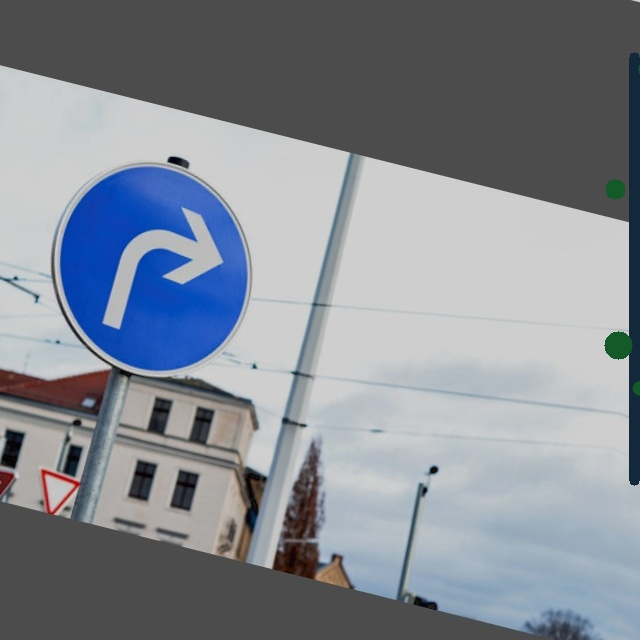Compulsory_Turn_Right_Ahead: (30, 141, 271, 397)
